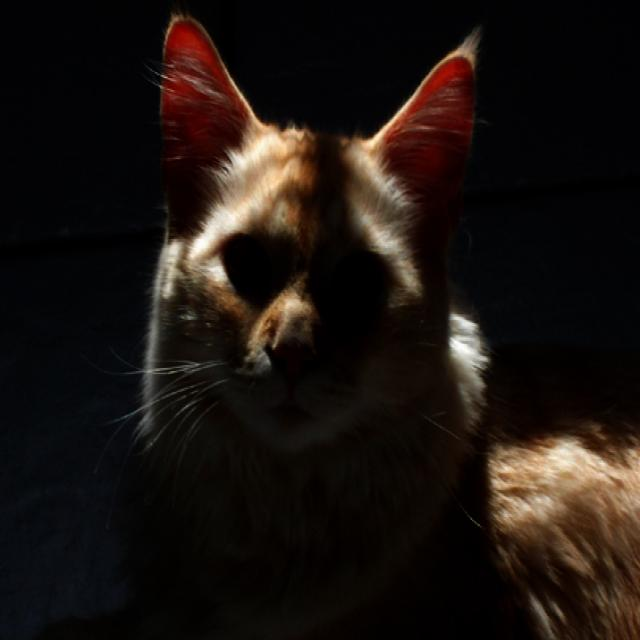Cat: (32, 0, 638, 640)
